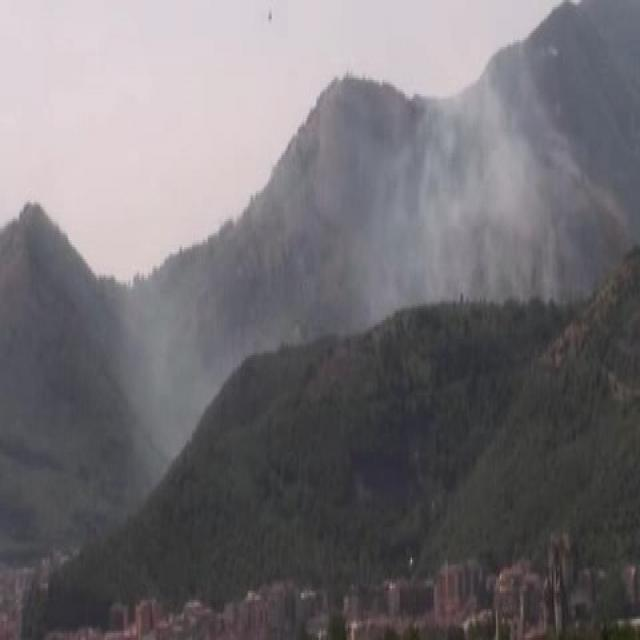smoke: (353, 95, 550, 313), (122, 258, 224, 450)
